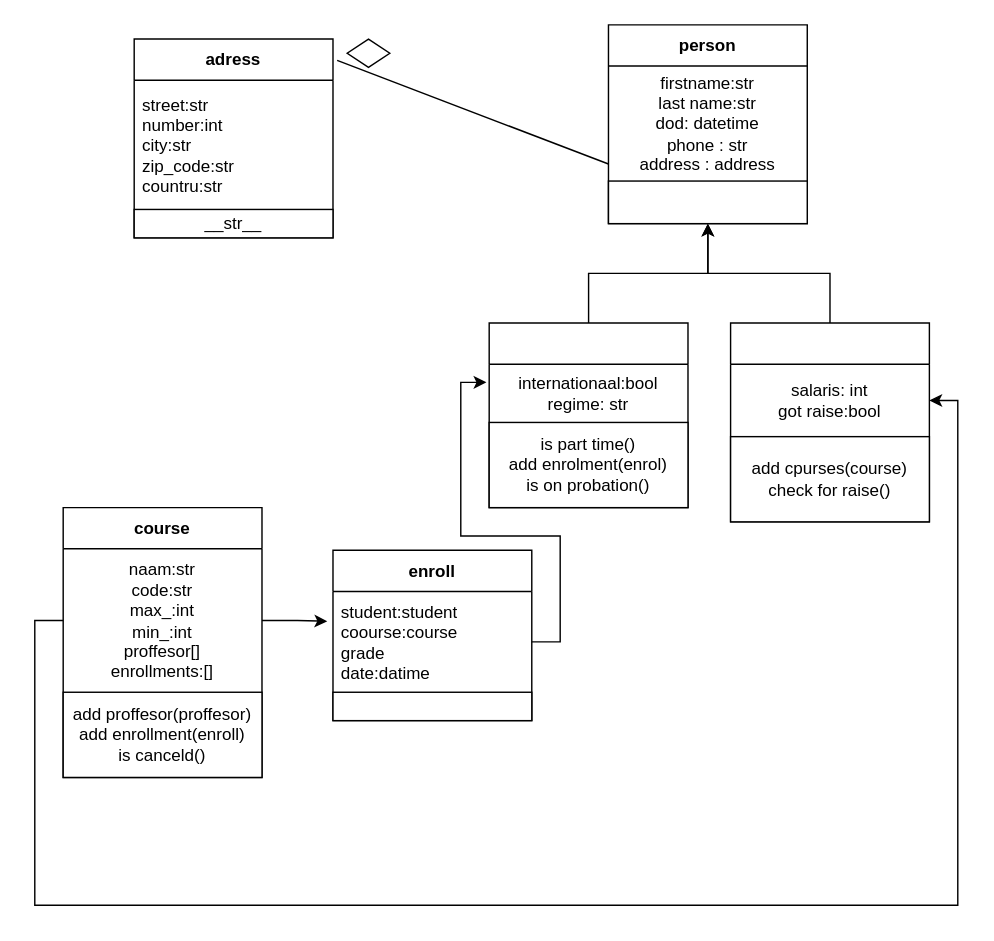
This 994x941 diagram has some shape labels left out. Each missing label, with the box of its shape:
add address(address: (607, 180, 807, 224)
profesor: (729, 322, 929, 522)
serrgrade(grade: (332, 691, 532, 721)
student: (488, 322, 688, 508)
